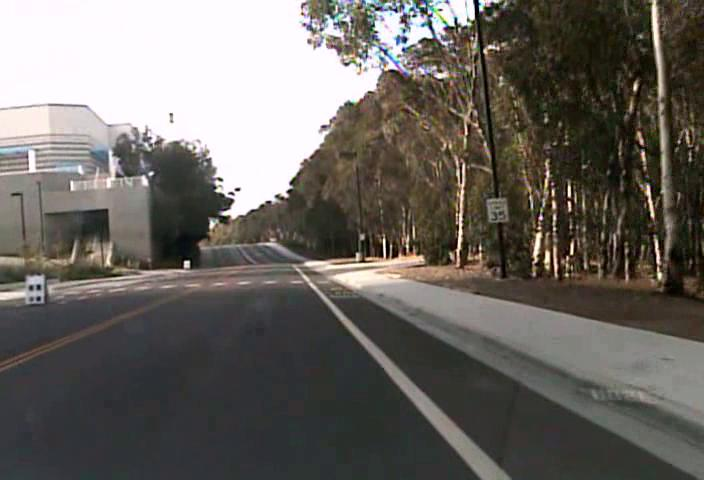speedLimit35: (485, 196, 510, 224)
